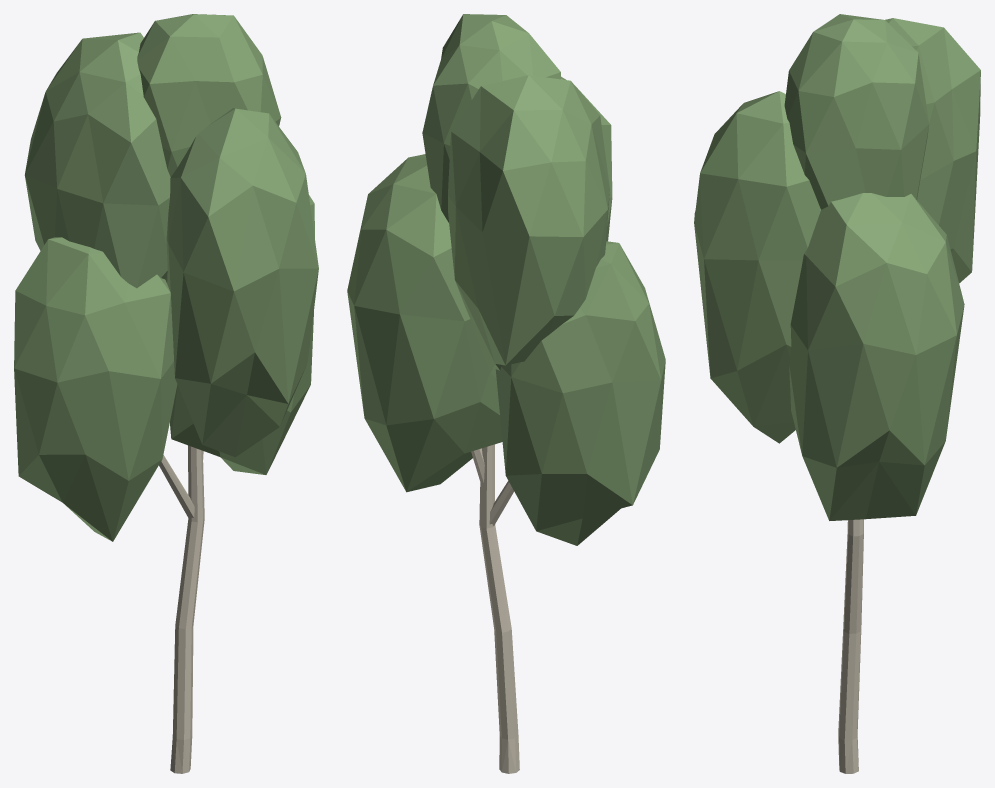
File: birch.fbx
The picture shows the model from 3 angles, left to right: view 1: azimuth 30°, elevation 25°; view 2: azimuth 150°, elevation 25°; view 3: azimuth 270°, elevation 25°; orthographic projection.
Visible parts, largest first — view 1: birch; view 2: birch; view 3: birch.
Boxes of the visible parts, <box> form: birch: <box>14,14,318,773</box>; birch: <box>347,14,665,773</box>; birch: <box>694,14,980,773</box>.
Bounding box in the file's own units: 5 × 12 × 4.12.
